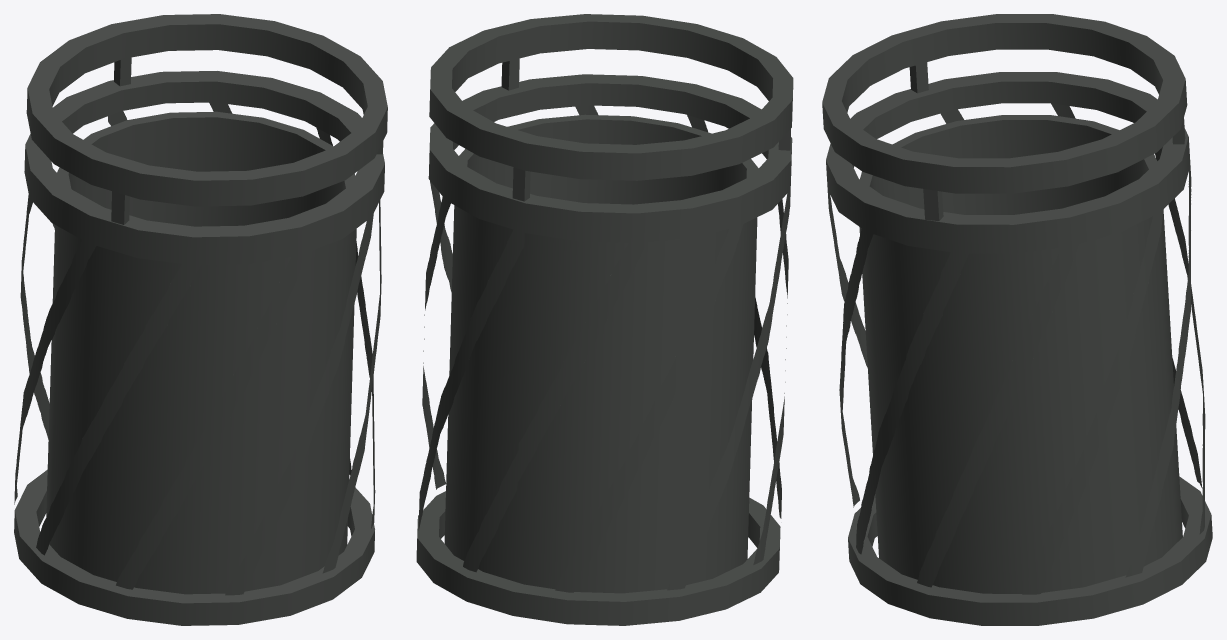
File: tresh2.fbx
The picture shows the model from 3 angles, left to right: view 1: azimuth 30°, elevation 25°; view 2: azimuth 150°, elevation 25°; view 3: azimuth 270°, elevation 25°; orthographic projection.
Visible parts, largest first — view 1: node_id16; view 2: node_id16; view 3: node_id16.
Part boxes in pixels (x1,y1,x2,y2): node_id16: (14, 14, 387, 625); node_id16: (416, 14, 793, 625); node_id16: (822, 14, 1212, 625).
Size of the model in its own units: 0.289 by 0.4248 by 0.3096.
Materials: 1 (1 with a texture image).
